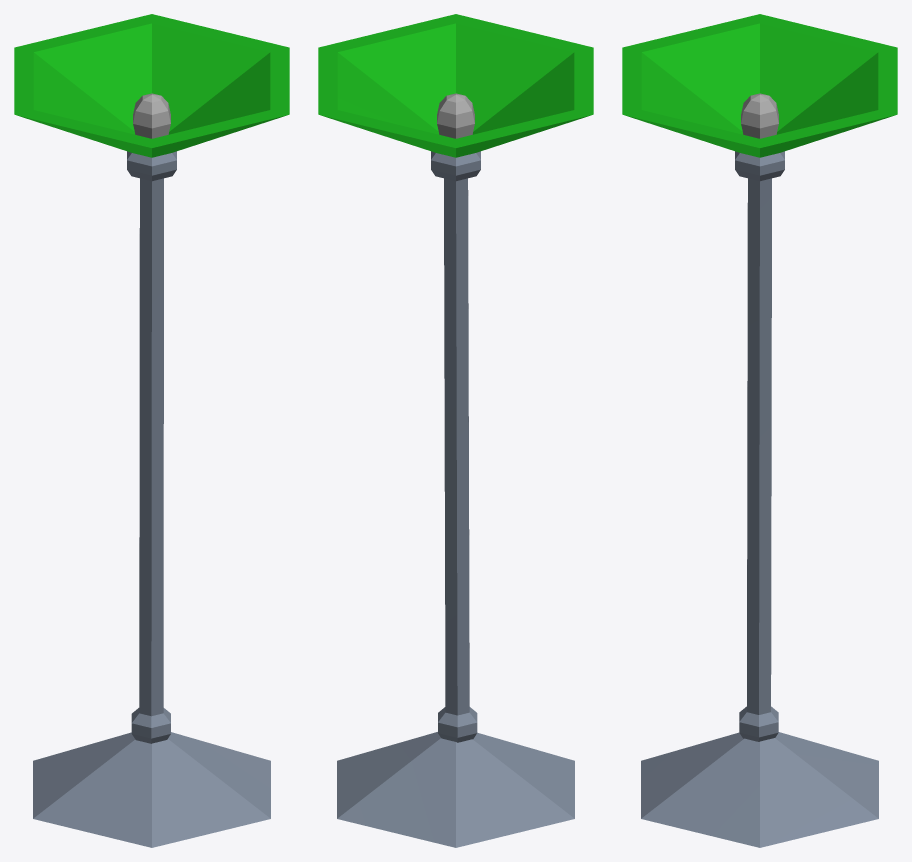
The model's file is g_o_StandingLamp_01.fbx.
3 renders of one model, left to right at view 1: azimuth 30°, elevation 25°; view 2: azimuth 150°, elevation 25°; view 3: azimuth 270°, elevation 25°, orthographic.
Visible parts, largest first — view 1: StandingLamp; view 2: StandingLamp; view 3: StandingLamp.
Boxes of the visible parts, x1=… form: StandingLamp: x1=14, y1=14, x2=289, y2=847; StandingLamp: x1=318, y1=14, x2=593, y2=847; StandingLamp: x1=622, y1=14, x2=897, y2=847.
Size of the model in its own units: 0.6803 by 1.67 by 0.5892.
